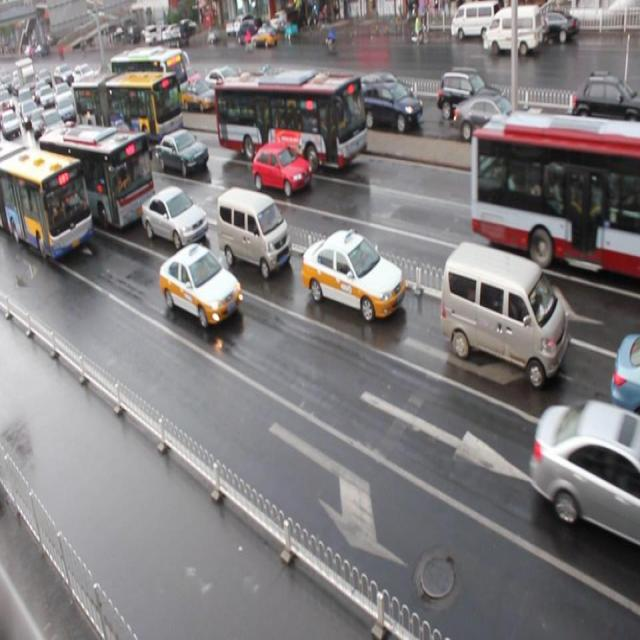BigCar: (463, 98, 640, 229), (205, 70, 387, 163), (37, 120, 154, 233), (2, 141, 92, 263)
car: (438, 243, 562, 388), (302, 219, 398, 350), (148, 246, 246, 336), (142, 174, 216, 258), (222, 134, 314, 201), (221, 188, 288, 268)
